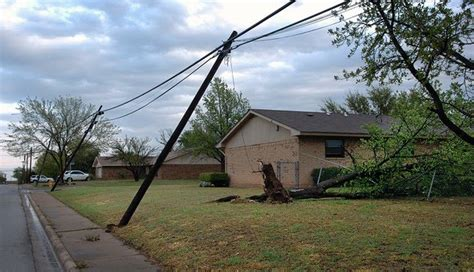pole: (90, 2, 334, 134)
